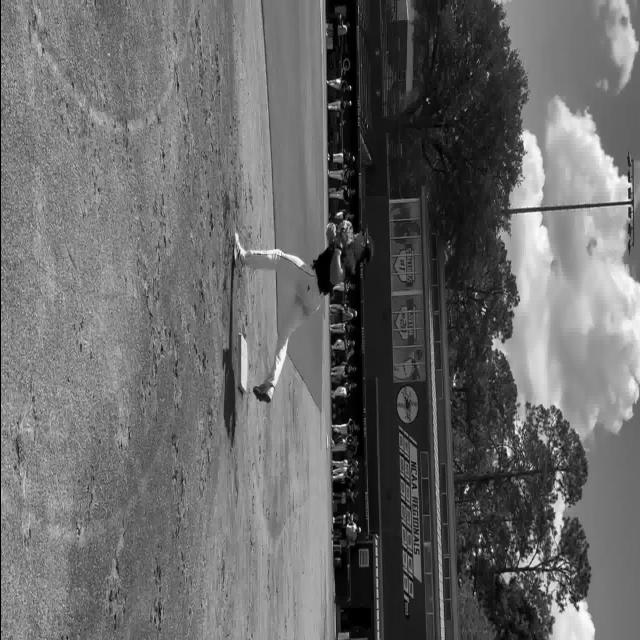base: (238, 333, 248, 393)
baseball_glove: (335, 220, 352, 247)
shoe: (252, 380, 274, 402), (232, 233, 241, 271)
